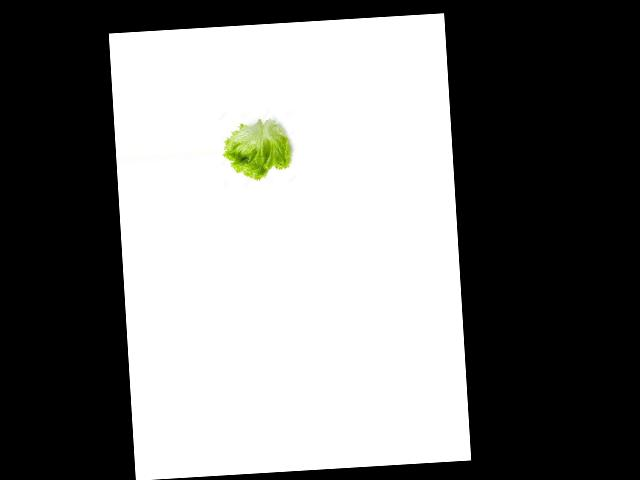lettuce: (219, 115, 298, 179)
